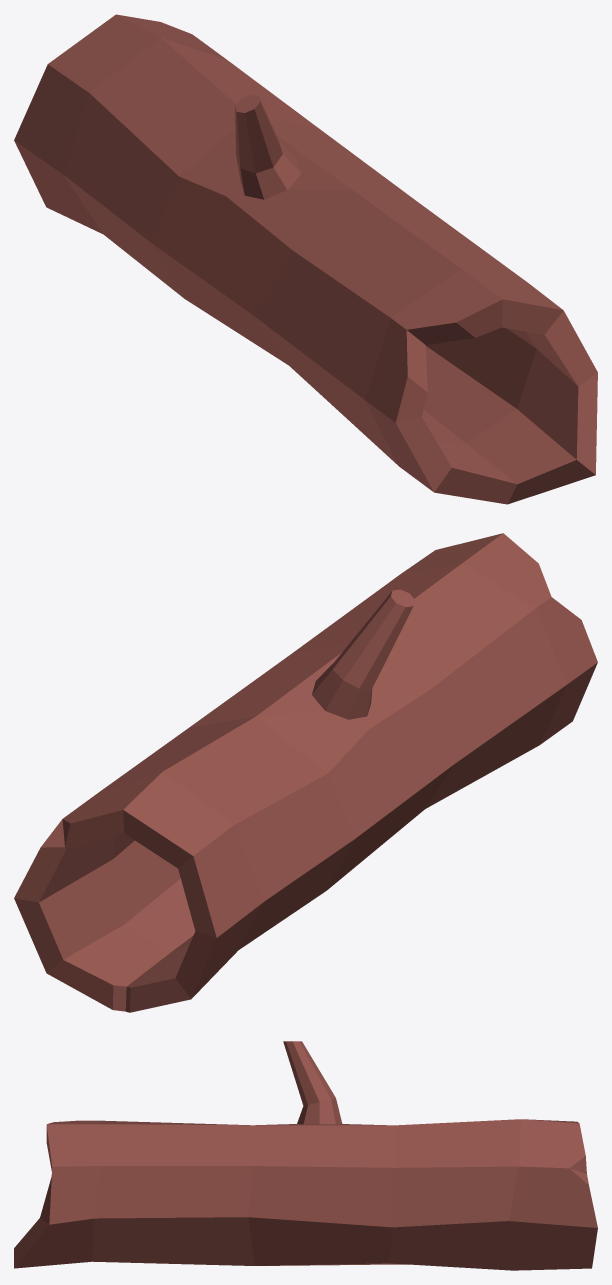
Rendered from tree_stump.fbx.
3 views of the same model, one above another, from view 1: azimuth 30°, elevation 25°; view 2: azimuth 150°, elevation 25°; view 3: azimuth 270°, elevation 25° (orthographic). The views are drawn at different scales.
Visible parts, largest first — view 1: Cylinder.001; view 2: Cylinder.001; view 3: Cylinder.001.
Boxes of the visible parts, box(x1,y1,x2,y2) form: Cylinder.001: box(14, 14, 597, 504); Cylinder.001: box(14, 533, 597, 1012); Cylinder.001: box(14, 1041, 597, 1270).
Size of the model in its own units: 203 by 286 by 747.
